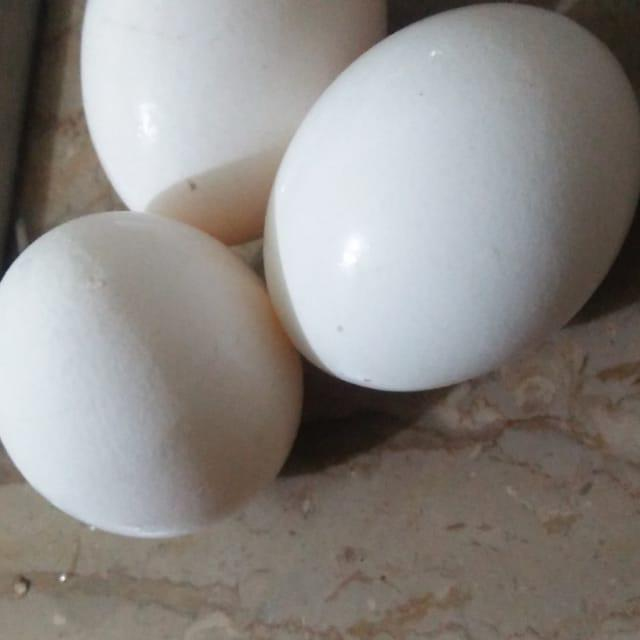egg: (260, 0, 640, 394), (0, 195, 317, 532), (90, 0, 387, 211)
